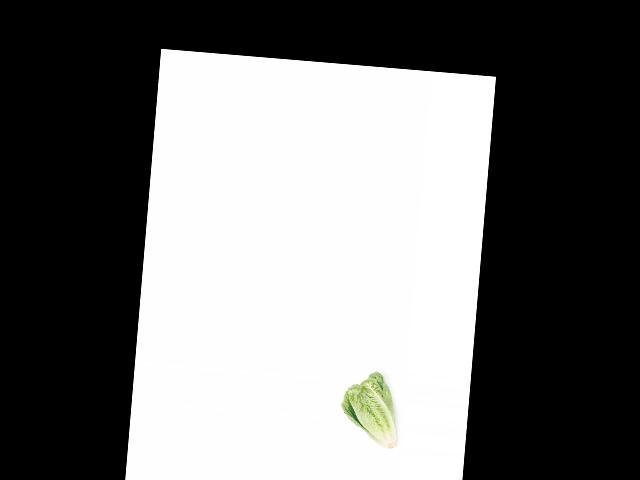lettuce: (338, 369, 405, 454)
